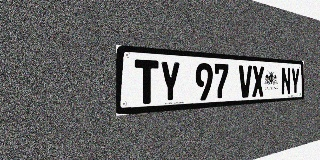7: (213, 63, 229, 100)
9: (196, 63, 213, 101)
N: (281, 67, 291, 95)
T: (135, 59, 158, 105)
V: (239, 65, 252, 98)
X: (252, 66, 264, 97)
Y: (159, 61, 180, 103), (291, 68, 300, 95)
